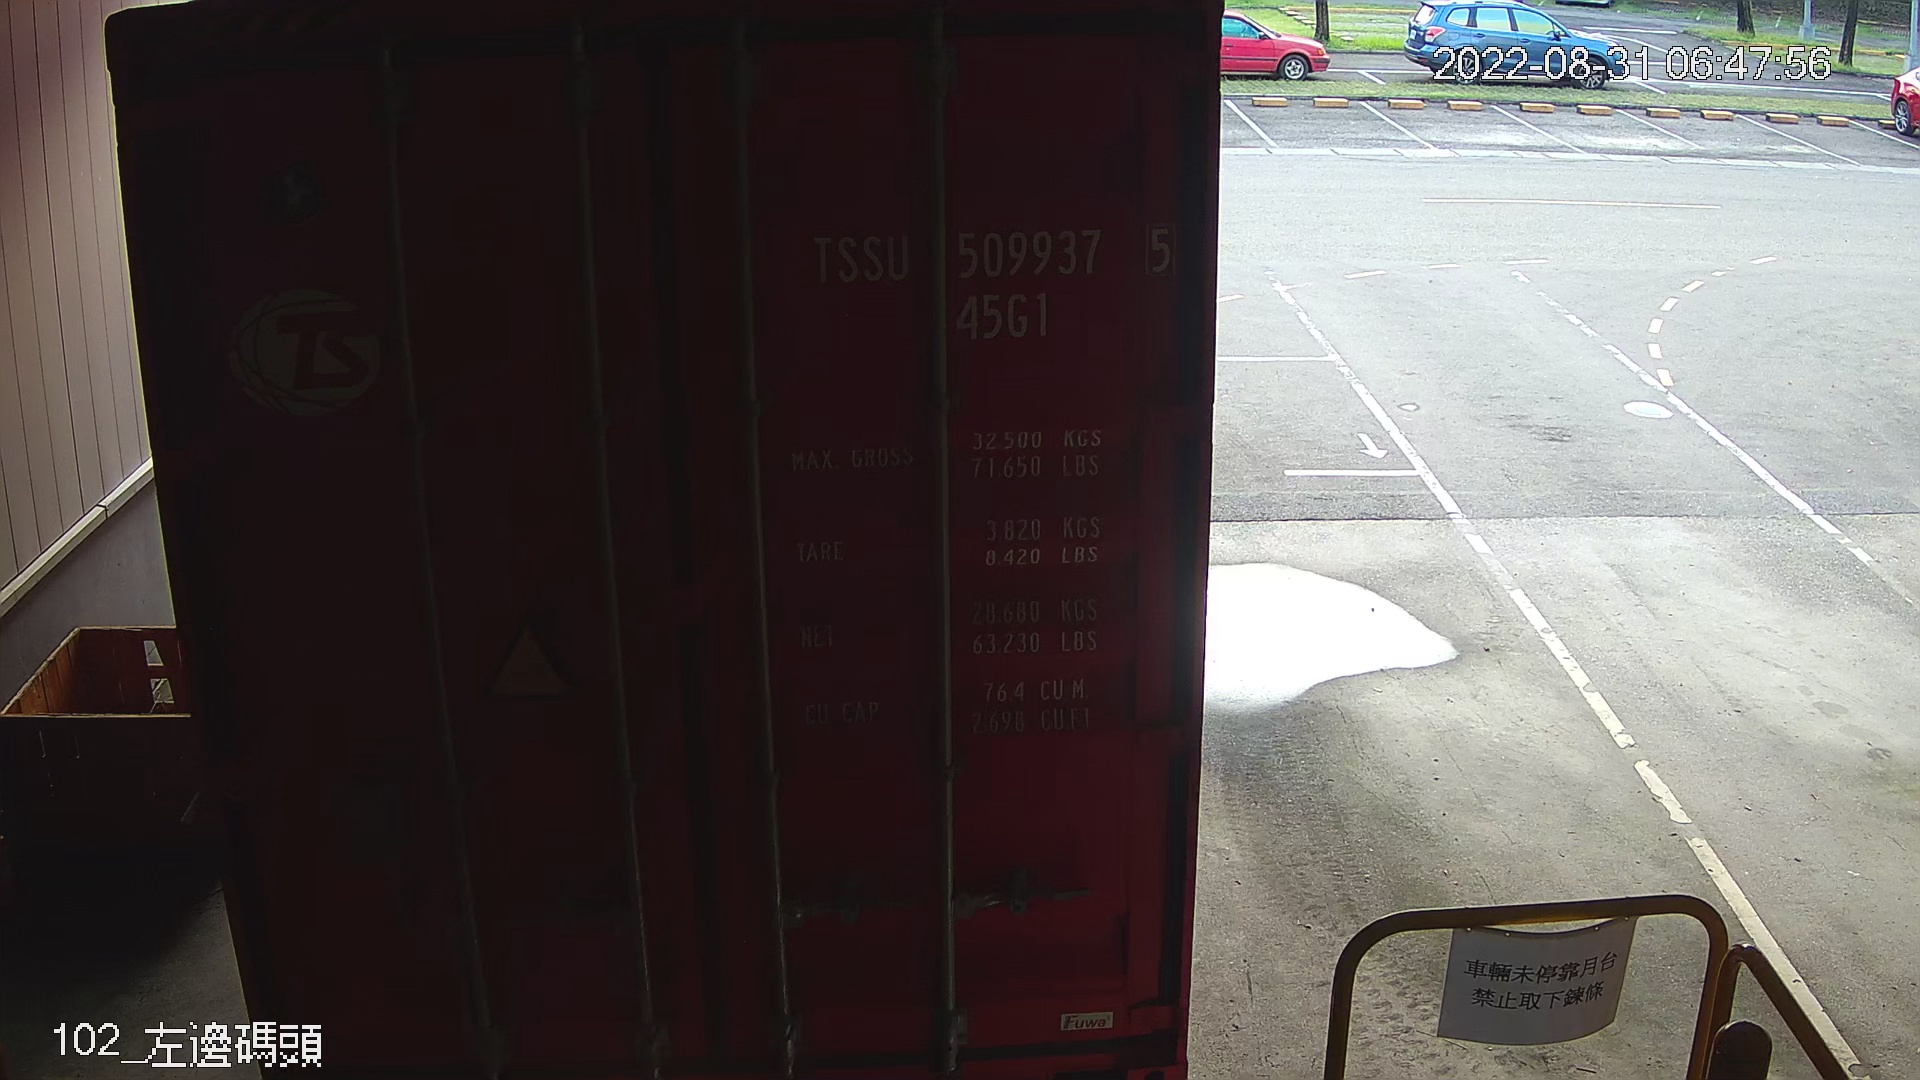container: (796, 210, 1185, 349)
